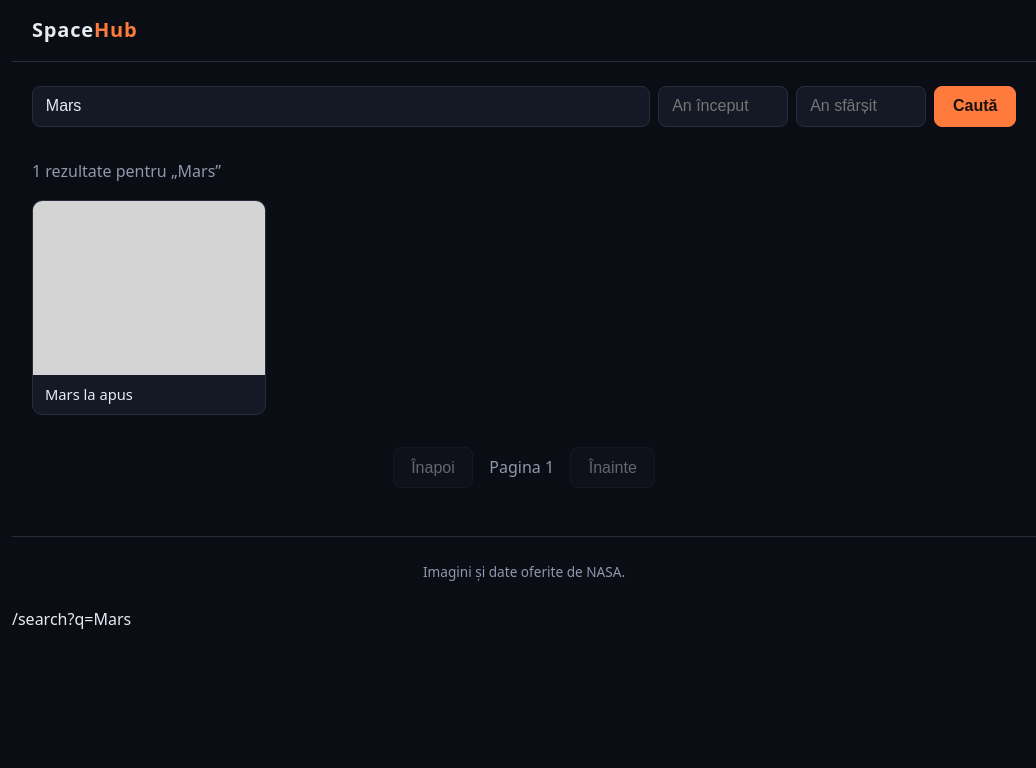
Scenario: US10 - Filtrare după an › respinge intervalul inversat fără să apeleze API-ul
Expected: the text "Mars la apus" is shown, left=45, top=384, right=133, bottom=404
Type "2020" into the number field named "An de început" at coordinates (723, 106), box left=658, top=86, right=788, bottom=127
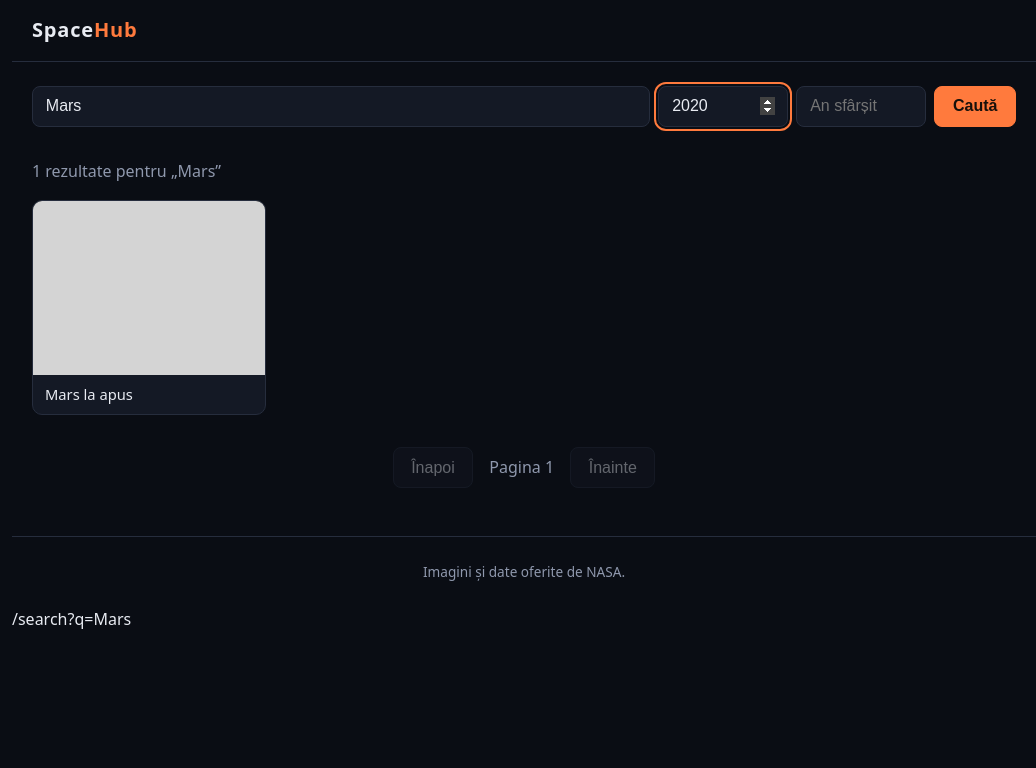
Type "2010" into the number field named "An de sfârșit" at coordinates (861, 106), box left=796, top=86, right=926, bottom=127
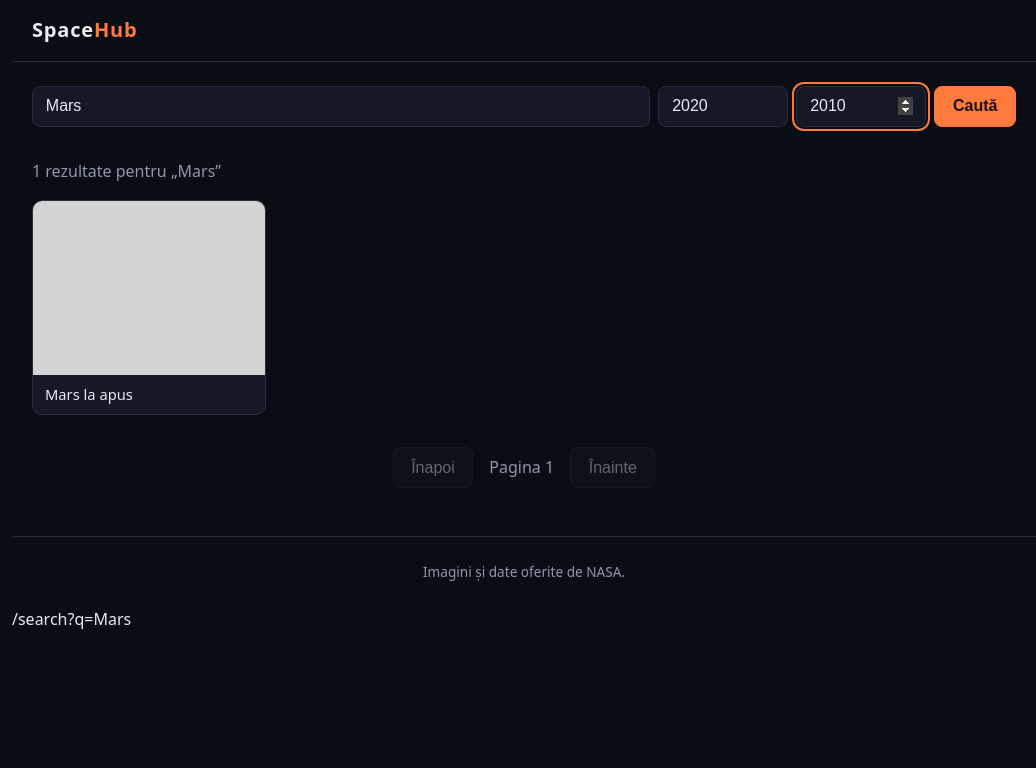
Click the button "Caută" at coordinates (975, 106), box left=934, top=86, right=1016, bottom=127
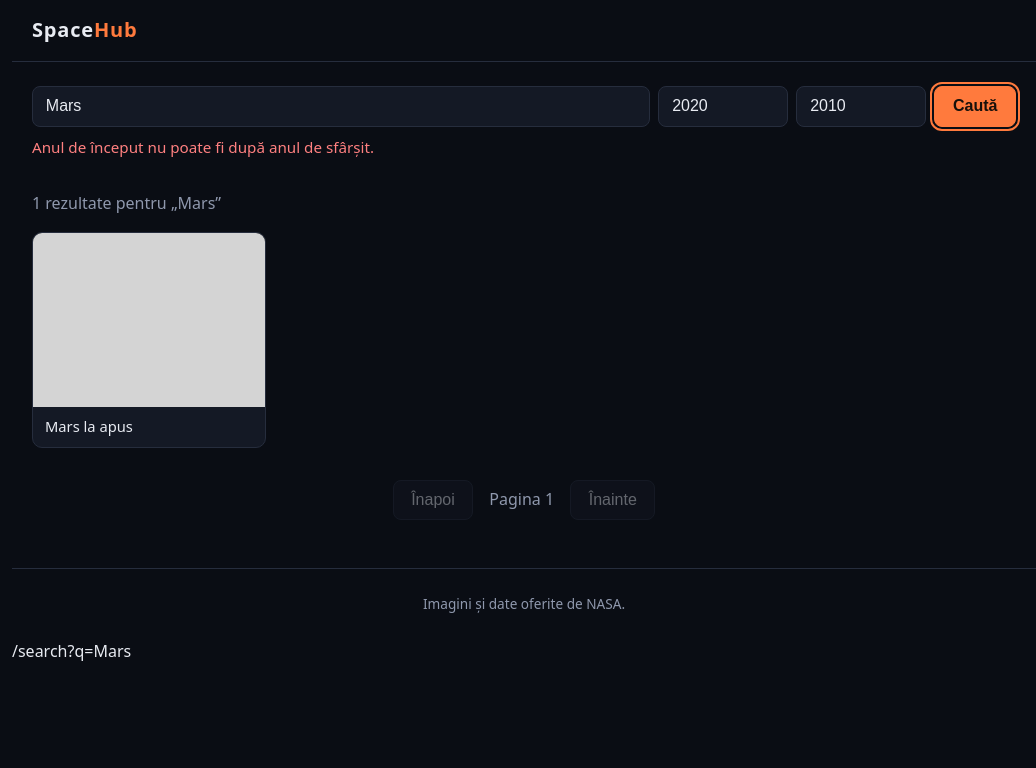
Now the message shows "nu poate fi după", box left=32, top=137, right=374, bottom=157
